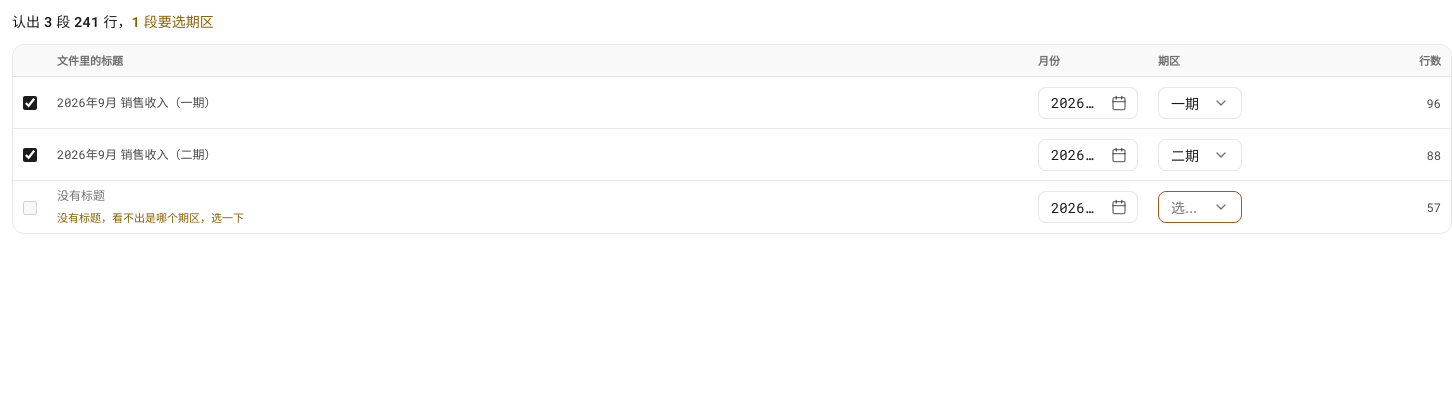
it: ImportSummary › 选了期区就勾上
Click the dropdown with class "ds-sel-trigger" showing "选期区".
click(1200, 207)  # box [1158,191,1242,223]
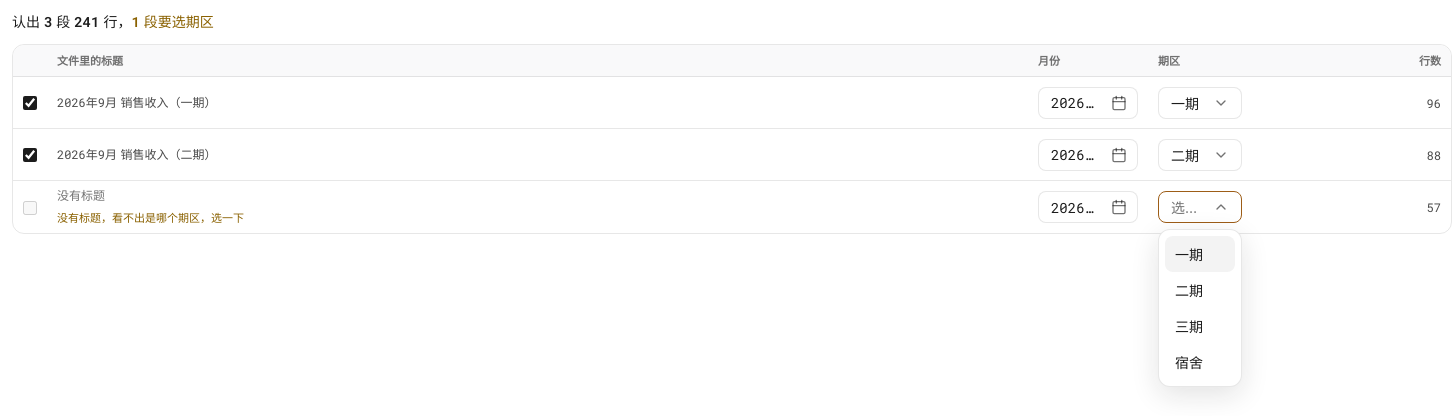
Click the option "宿舍".
click(1200, 362)  # box [1165,344,1235,380]
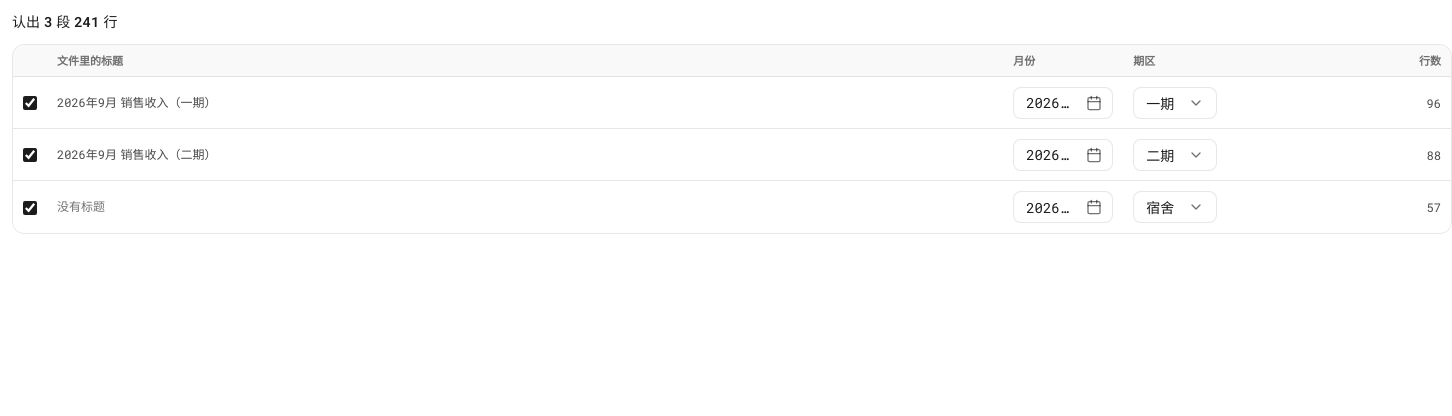
Expected: the element with class "isum-sum" reads "认出 3 段 241 行", [12,12,117,31]
Now the 3rd checkbox with class "isum-cb" is checked, box [23,201,37,215]
